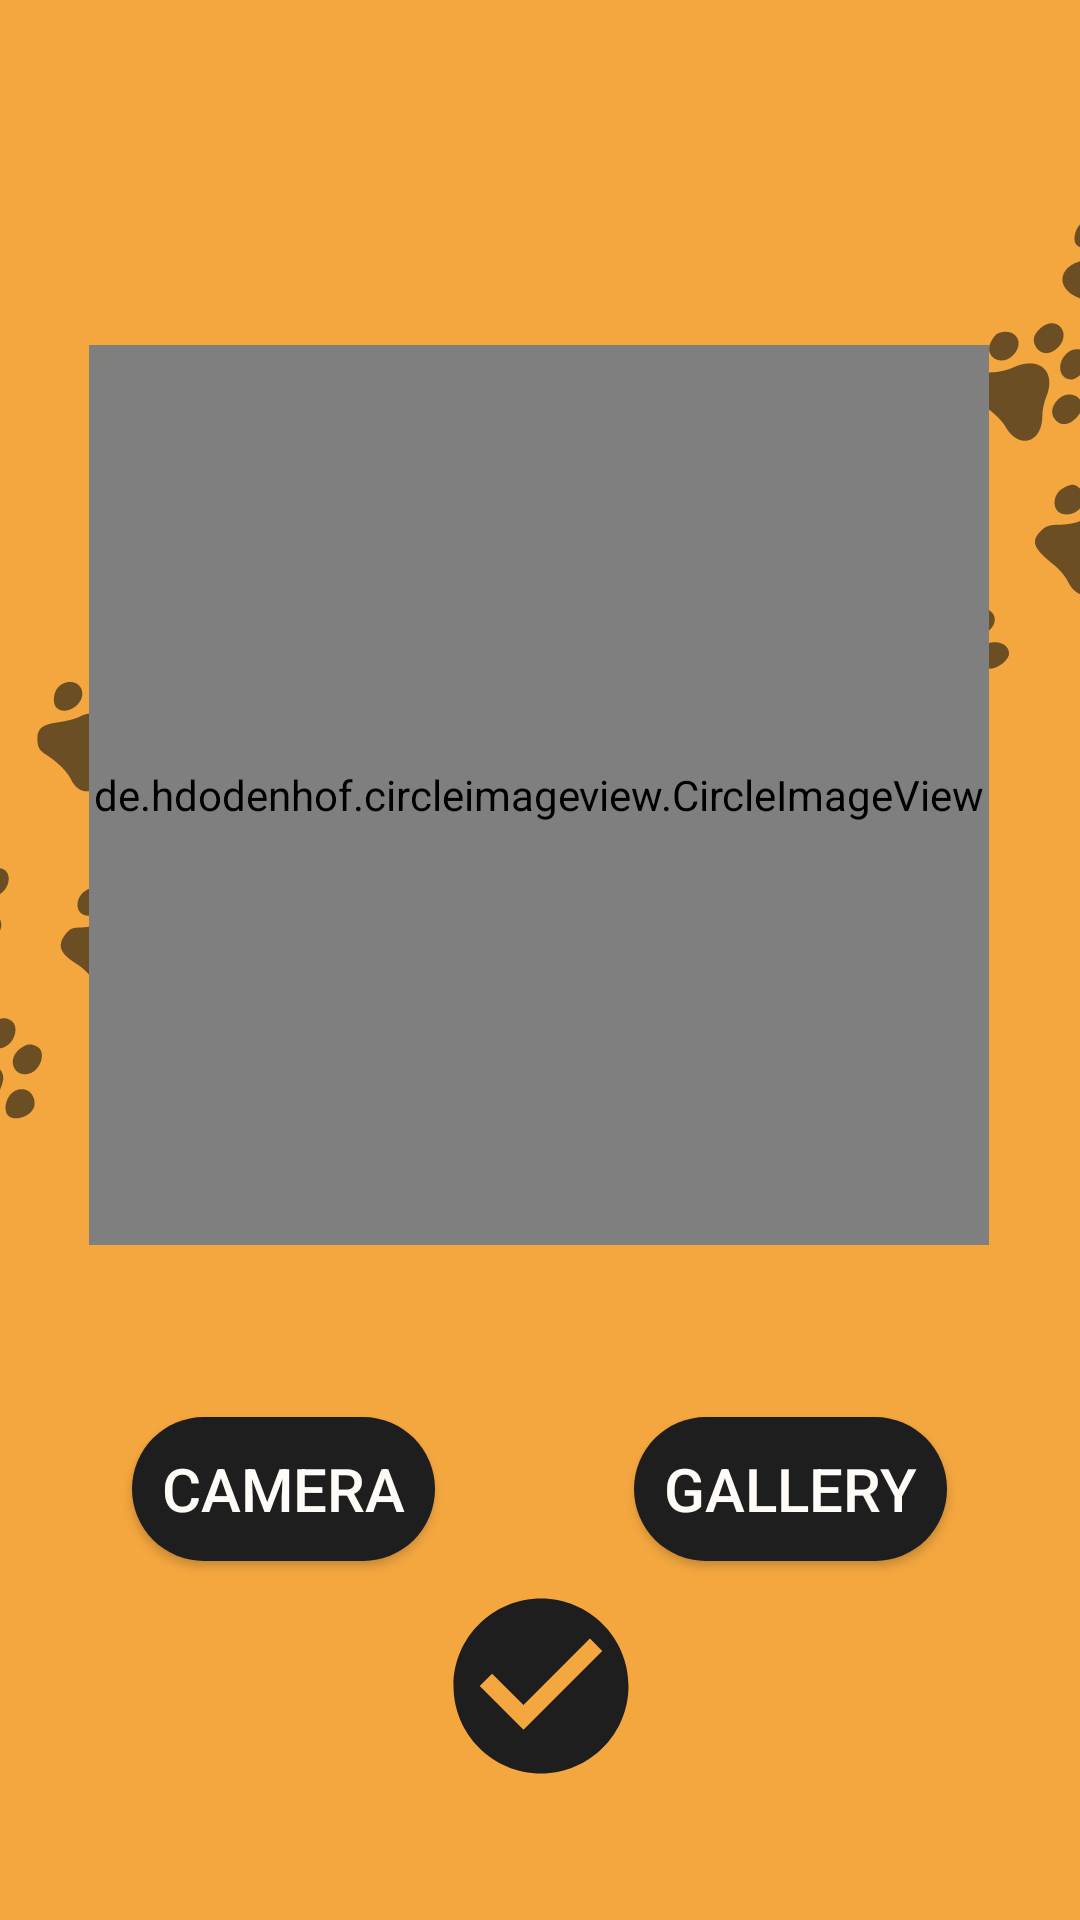

Icon bounding boxes for this 1080 × 1920 phone screenshot, format (x1, y1, x2, y2):
Confirm: (453, 1598, 629, 1774)
